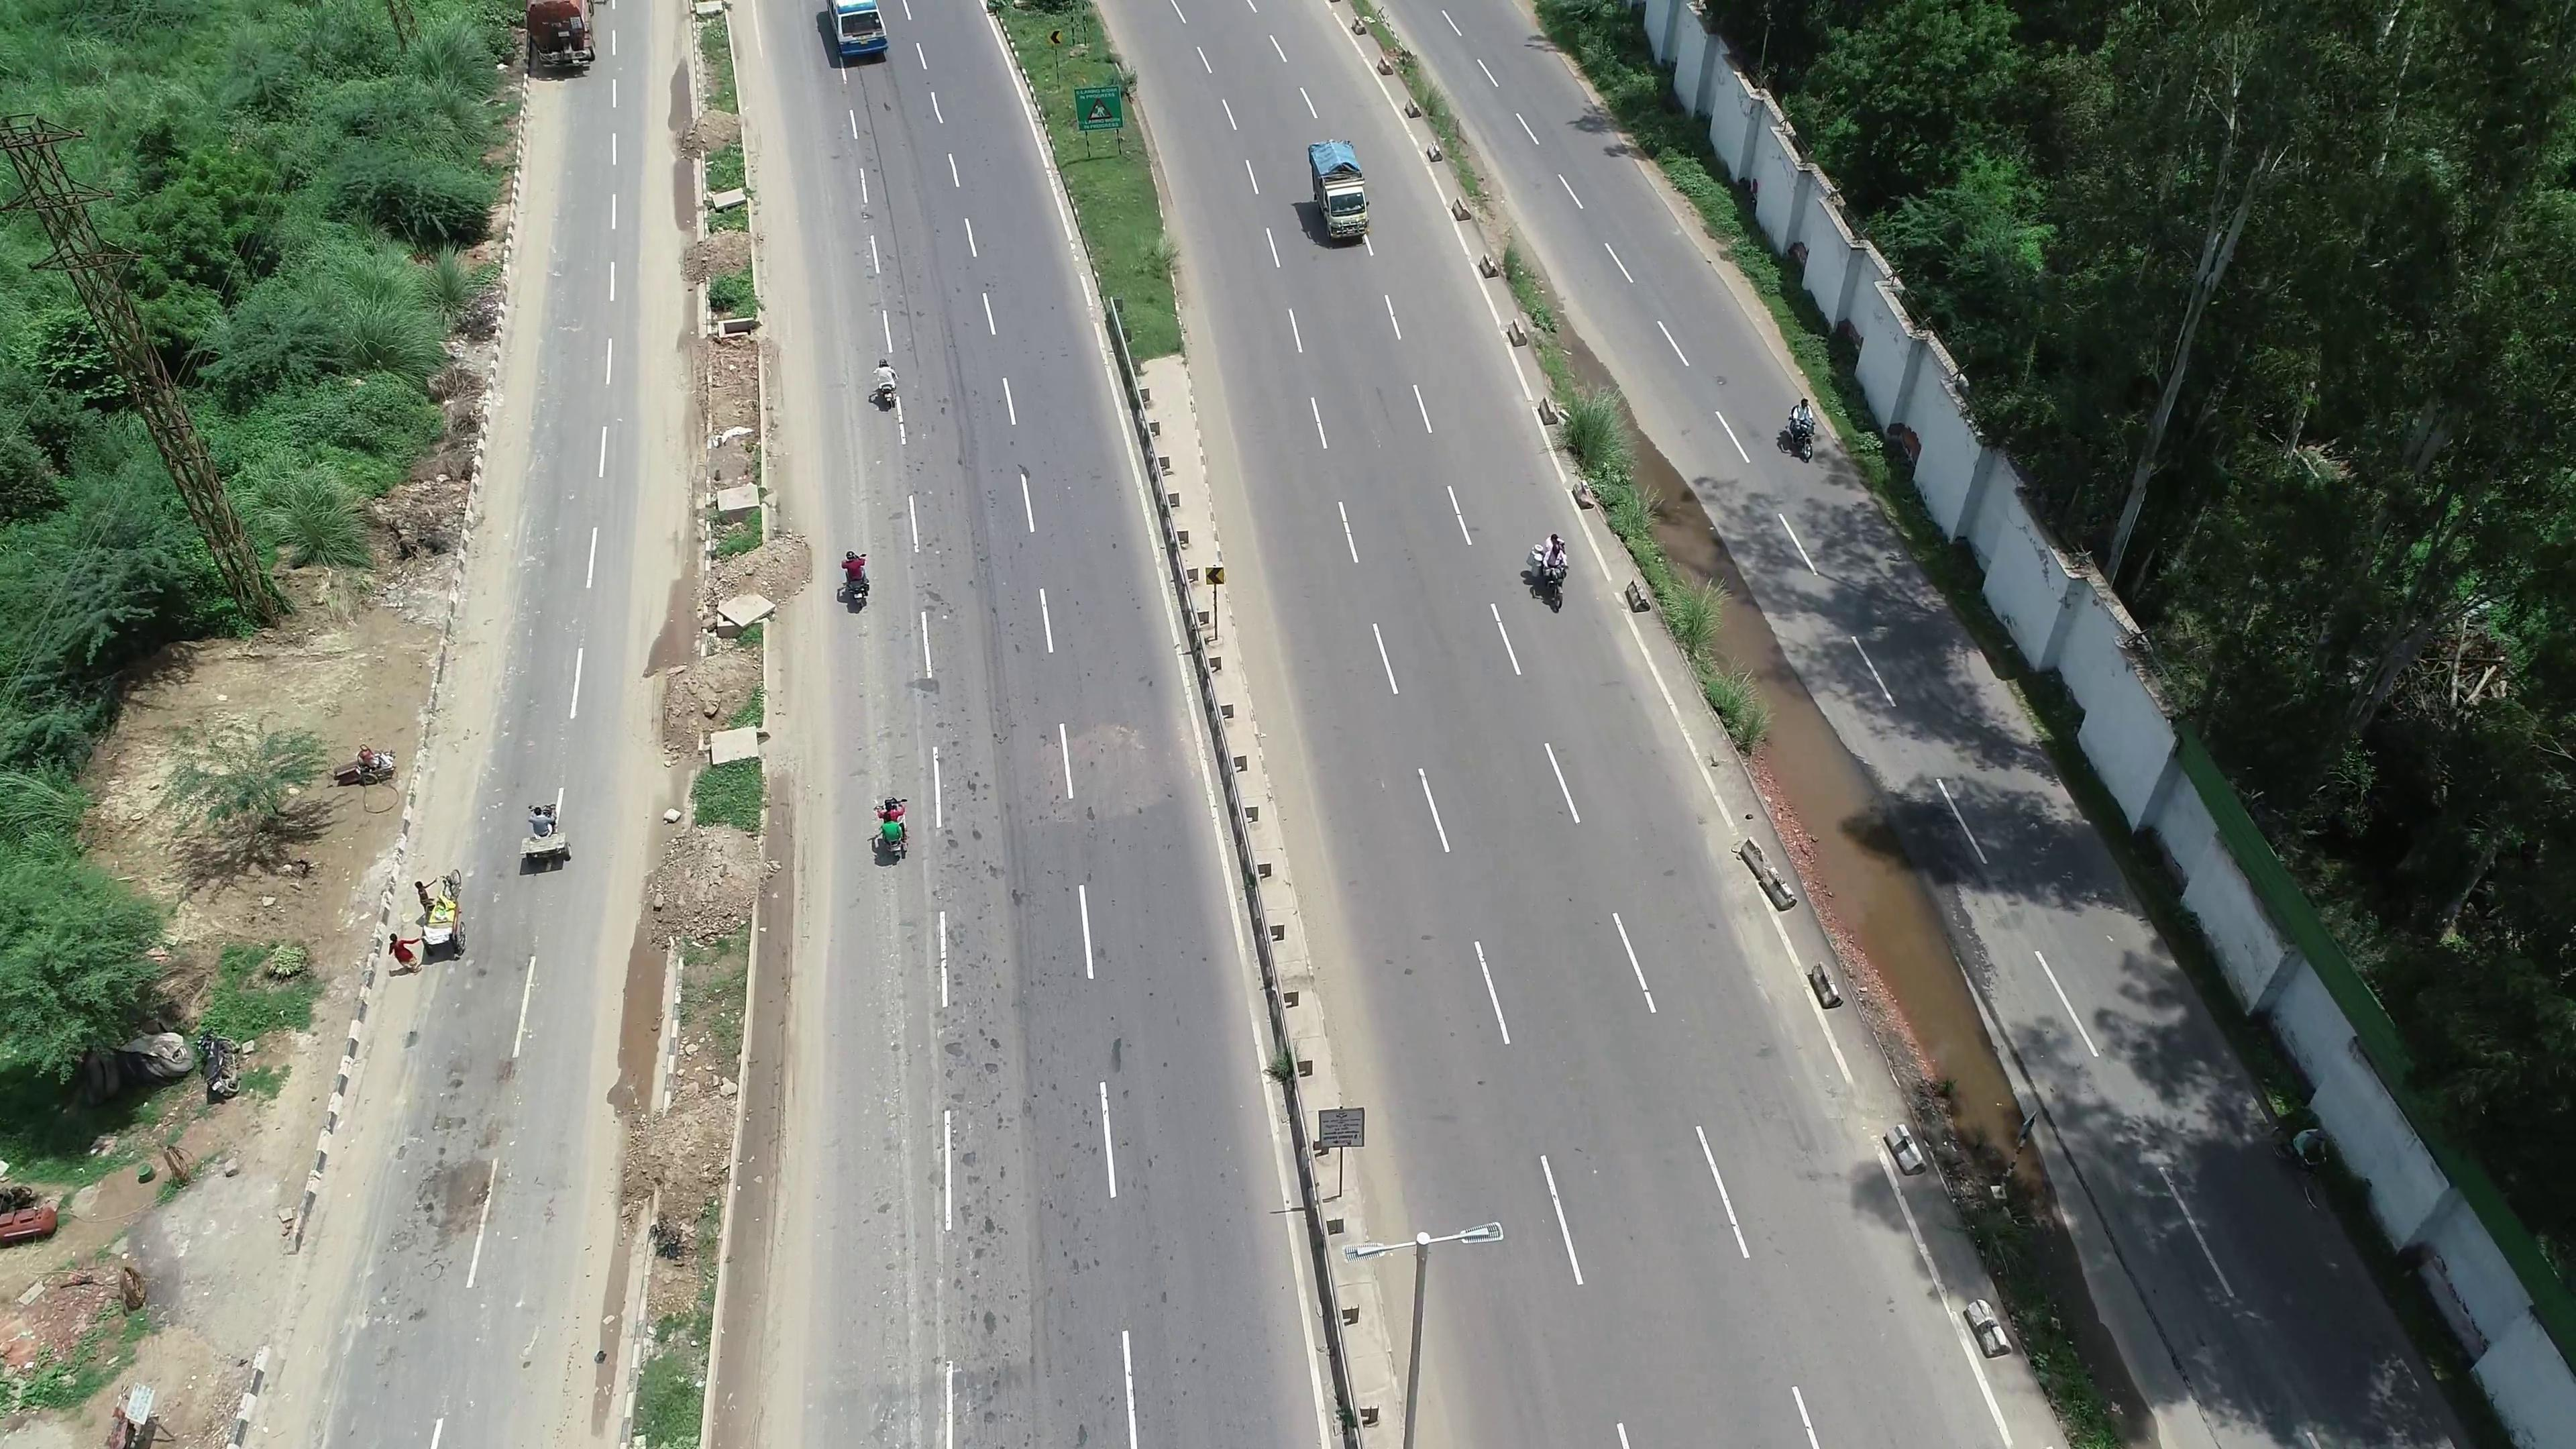Waterlogging: (1759, 731, 1957, 987), (1651, 483, 1805, 722)
